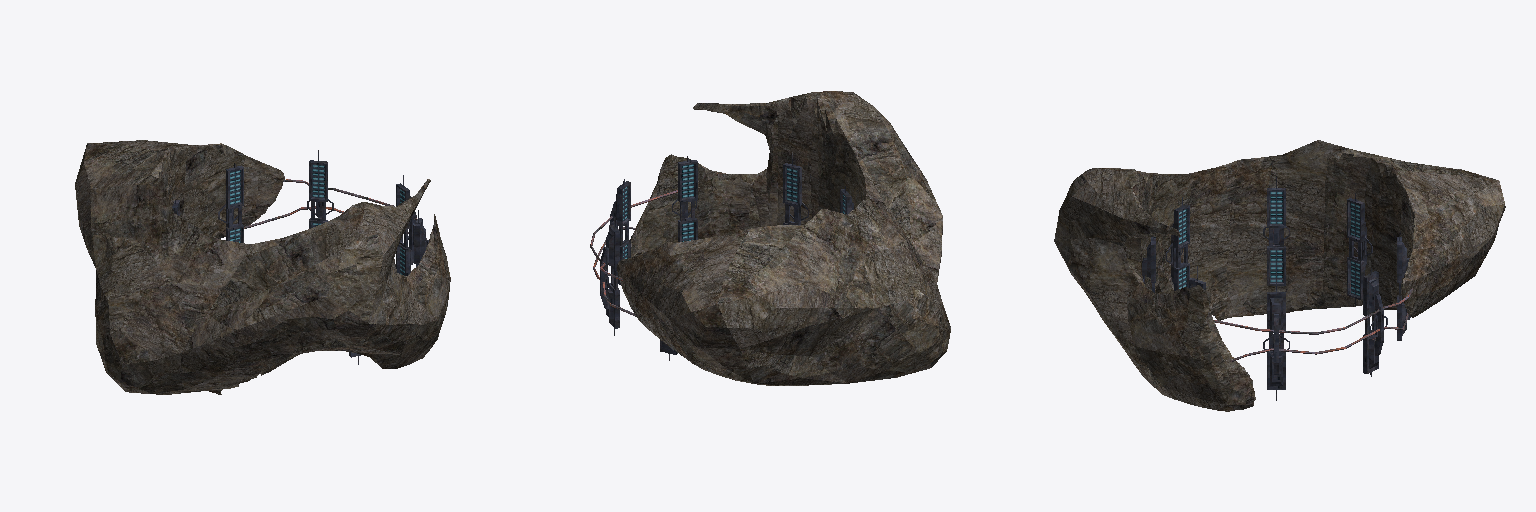
3 renders of one model, left to right at view 1: azimuth 30°, elevation 25°; view 2: azimuth 150°, elevation 25°; view 3: azimuth 270°, elevation 25°, orthographic.
Parts seen in each view (by area): view 1: GeoSphere01; view 2: GeoSphere01; view 3: GeoSphere01.
Boxes of the visible parts, <box> form: GeoSphere01: <box>75,140,450,394</box>; GeoSphere01: <box>590,91,950,385</box>; GeoSphere01: <box>1054,140,1505,411</box>.
Bounding box in the file's own units: 116 × 67.86 × 139.
1 materials, 1 textured.